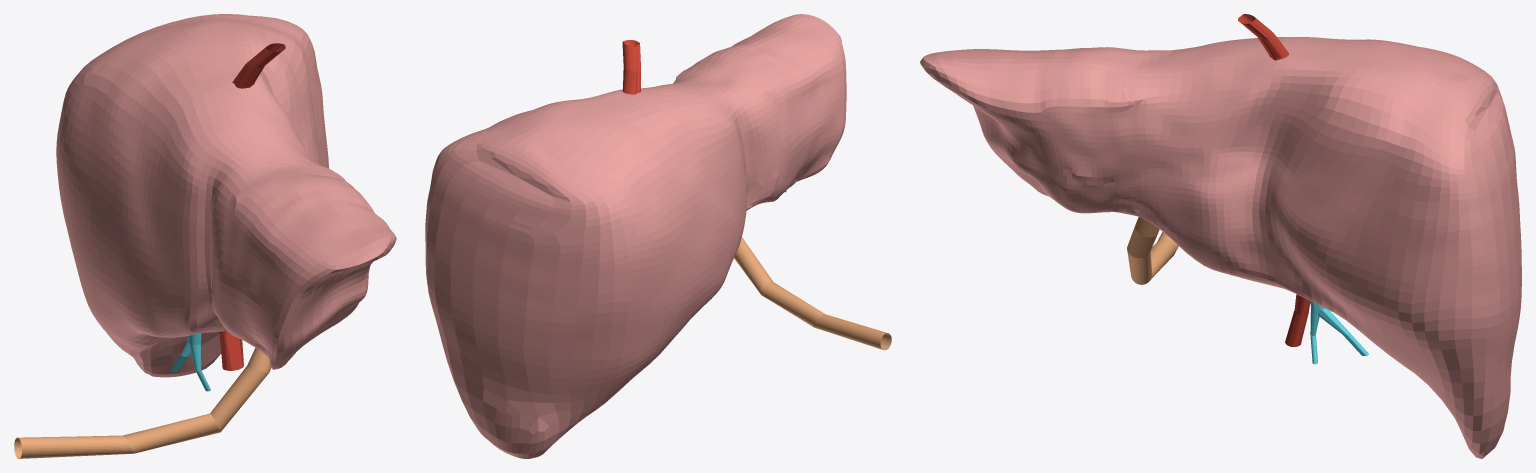
File: fullmodel.glb
3 views of the same model, side by side, from view 1: azimuth 30°, elevation 25°; view 2: azimuth 150°, elevation 25°; view 3: azimuth 270°, elevation 25° (orthographic). The views are drawn at different scales.
Visible parts, largest first — view 1: Cube, Circle; view 2: Cube, Circle; view 3: Cube, Circle.
Boxes of the visible parts, x1,y1,x2,y2 form: Cube: [56, 14, 396, 377]; Circle: [14, 43, 285, 458]; Cube: [425, 14, 846, 458]; Circle: [622, 40, 891, 350]; Cube: [920, 37, 1521, 458]; Circle: [1127, 14, 1368, 364].
Bounding box in the file's own units: 59.32 × 55.62 × 72.15.
